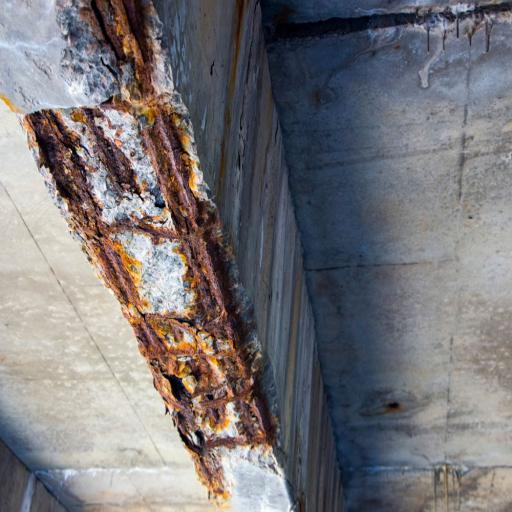spalling: (22, 0, 281, 497)
